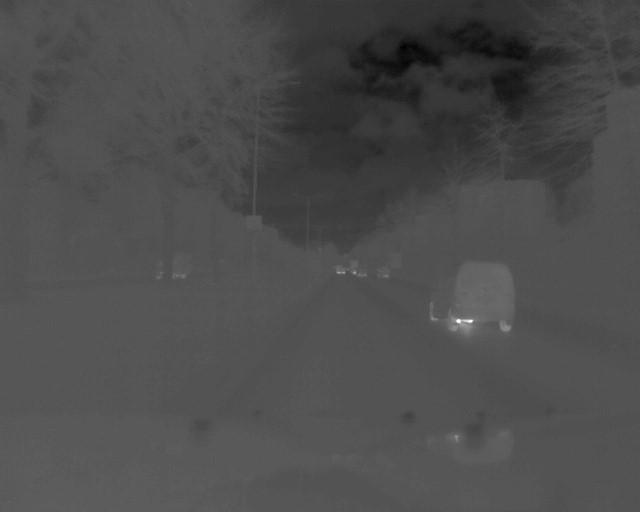car: (423, 261, 518, 335)
